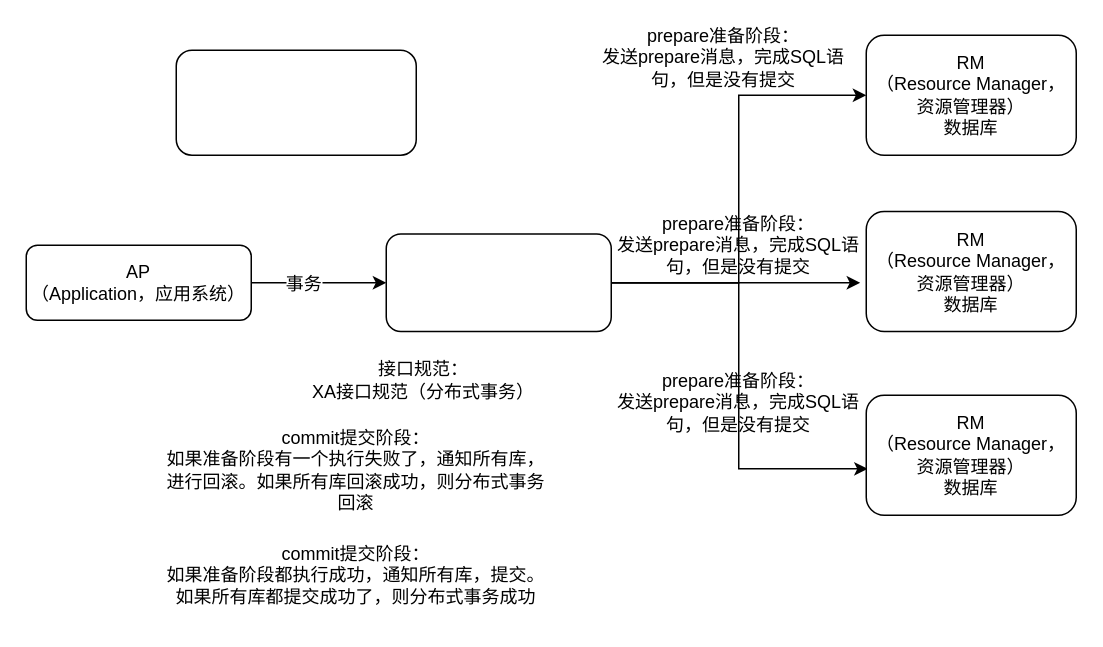
Some shapes in this 1103 by 647 pixel diagram are drawn without their labels. Here are the shapes that lost their labels. From the top down, the centre of each, then its label:
At (x=295, y=102): "CRM （Comminucation Resource Manager，通信资源管理器） 一般是消息中间件".
At (x=498, y=282): "TM （Transaction Manager，事务管理器） 就是一个第三方组件".
